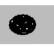correct: (8, 13, 38, 36)
